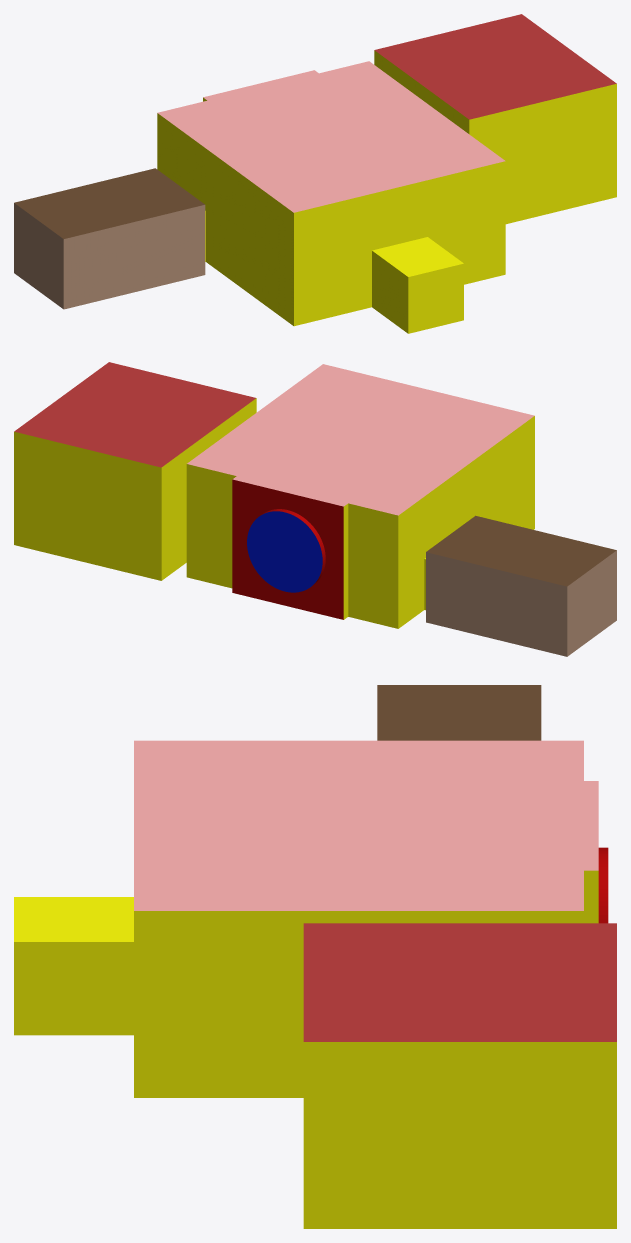
File: _ntitled2.fbx
The picture shows the model from 3 angles, top to bottom: view 1: azimuth 30°, elevation 25°; view 2: azimuth 150°, elevation 25°; view 3: azimuth 270°, elevation 25°; orthographic projection. The views are drawn at different scales.
Parts seen in each view (by area): view 1: pCube2; view 2: pCube2; view 3: pCube2.
Boxes of the visible parts, x1=… form: pCube2: x1=14, y1=14, x2=616, y2=333; pCube2: x1=14, y1=362, x2=616, y2=656; pCube2: x1=14, y1=685, x2=616, y2=1228.
Size of the model in its own units: 3948 by 807 by 2358.
